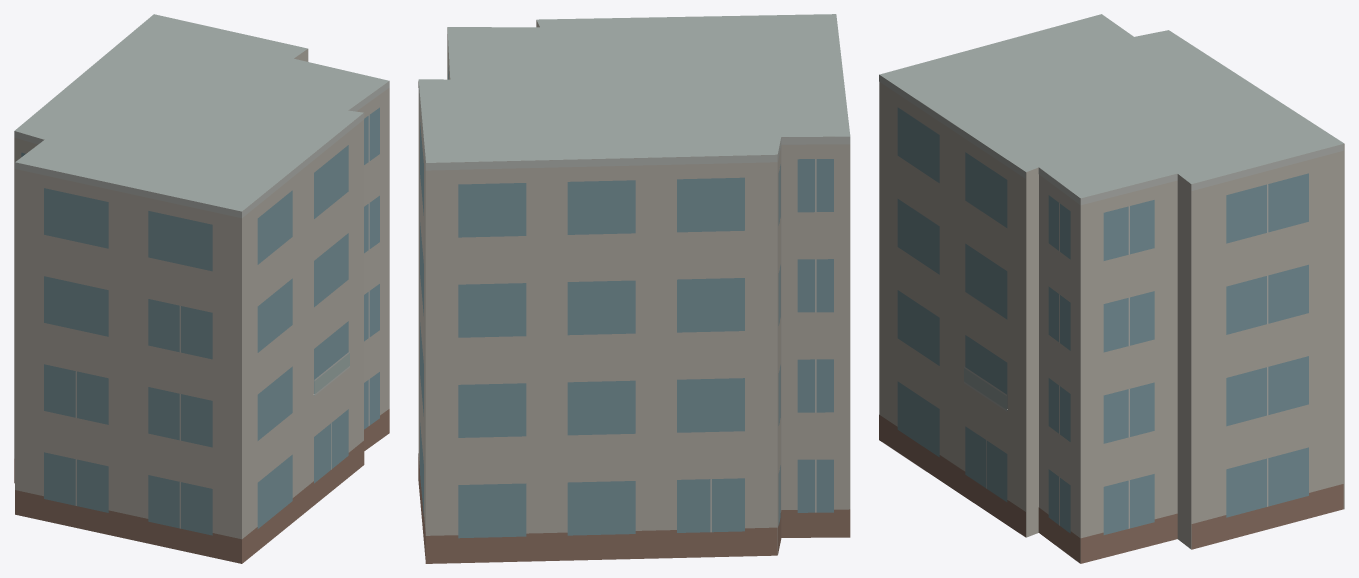
The model's file is survey-upis-32754906.glb.
The picture shows the model from 3 angles, left to right: view 1: azimuth 30°, elevation 25°; view 2: azimuth 150°, elevation 25°; view 3: azimuth 270°, elevation 25°; orthographic projection. The views are drawn at different scales.
Parts seen in each view (by area): view 1: survey-upis-32754906.tmp; view 2: survey-upis-32754906.tmp; view 3: survey-upis-32754906.tmp.
Part boxes in pixels (left/top/right/bottom): survey-upis-32754906.tmp: left=14, top=14, right=389, bottom=563; survey-upis-32754906.tmp: left=418, top=14, right=850, bottom=563; survey-upis-32754906.tmp: left=879, top=14, right=1344, bottom=563.
Size of the model in its own units: 13.97 by 12.9 by 14.91.
